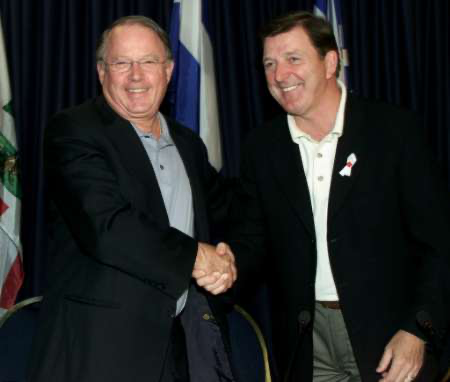Face: (99, 38, 179, 122), (259, 41, 330, 118)
